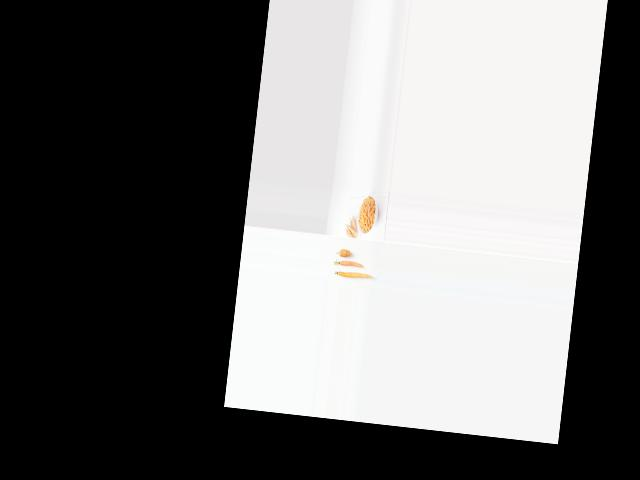carrot: (335, 247, 355, 257)
